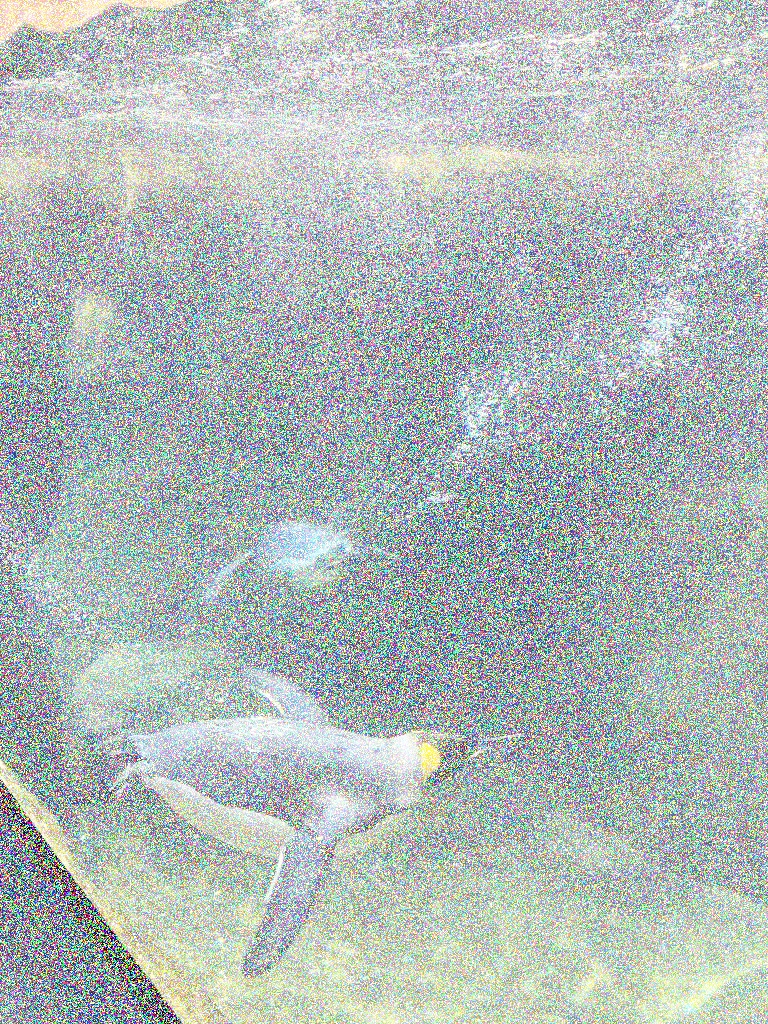penguin: (95, 666, 537, 978), (202, 519, 403, 615)
